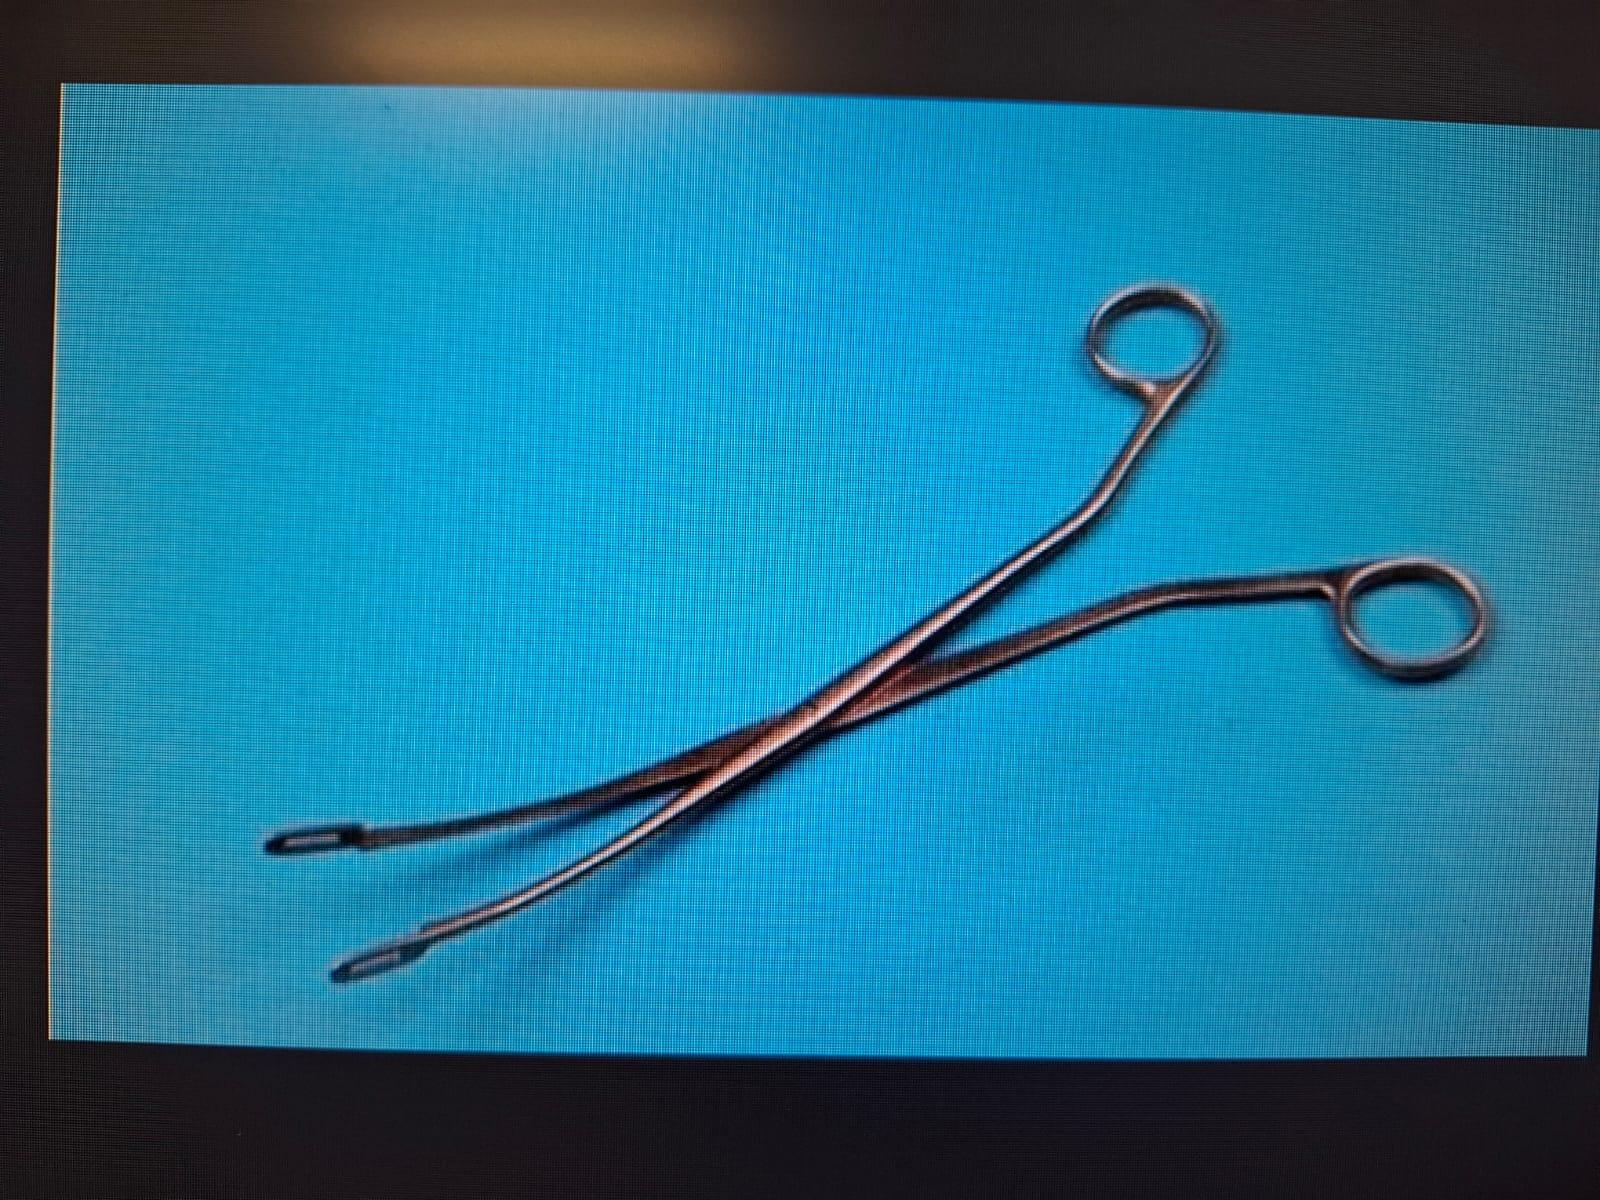Desjardin Forceps: (244, 258, 1511, 1018)
